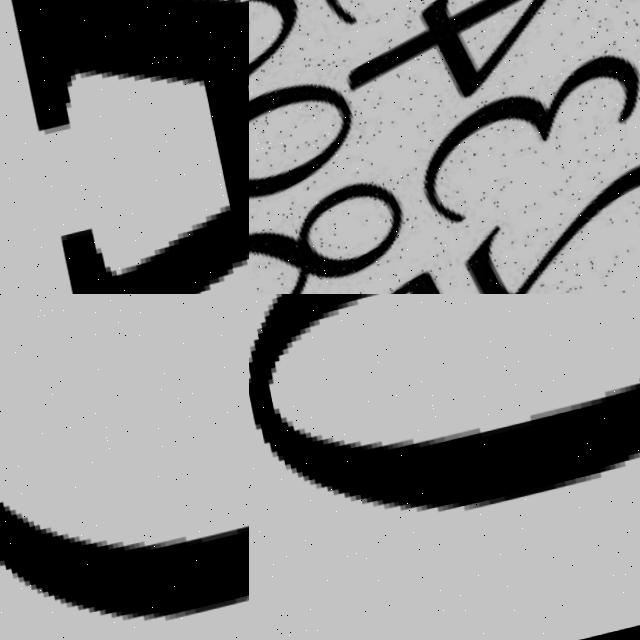0: (249, 294, 640, 572), (249, 0, 329, 168)
2: (433, 131, 640, 294)
3: (385, 32, 640, 248)
4: (313, 0, 625, 158)
5: (284, 0, 580, 44)
8: (249, 155, 435, 294)
9: (249, 51, 382, 273)
A: (0, 0, 249, 294)
